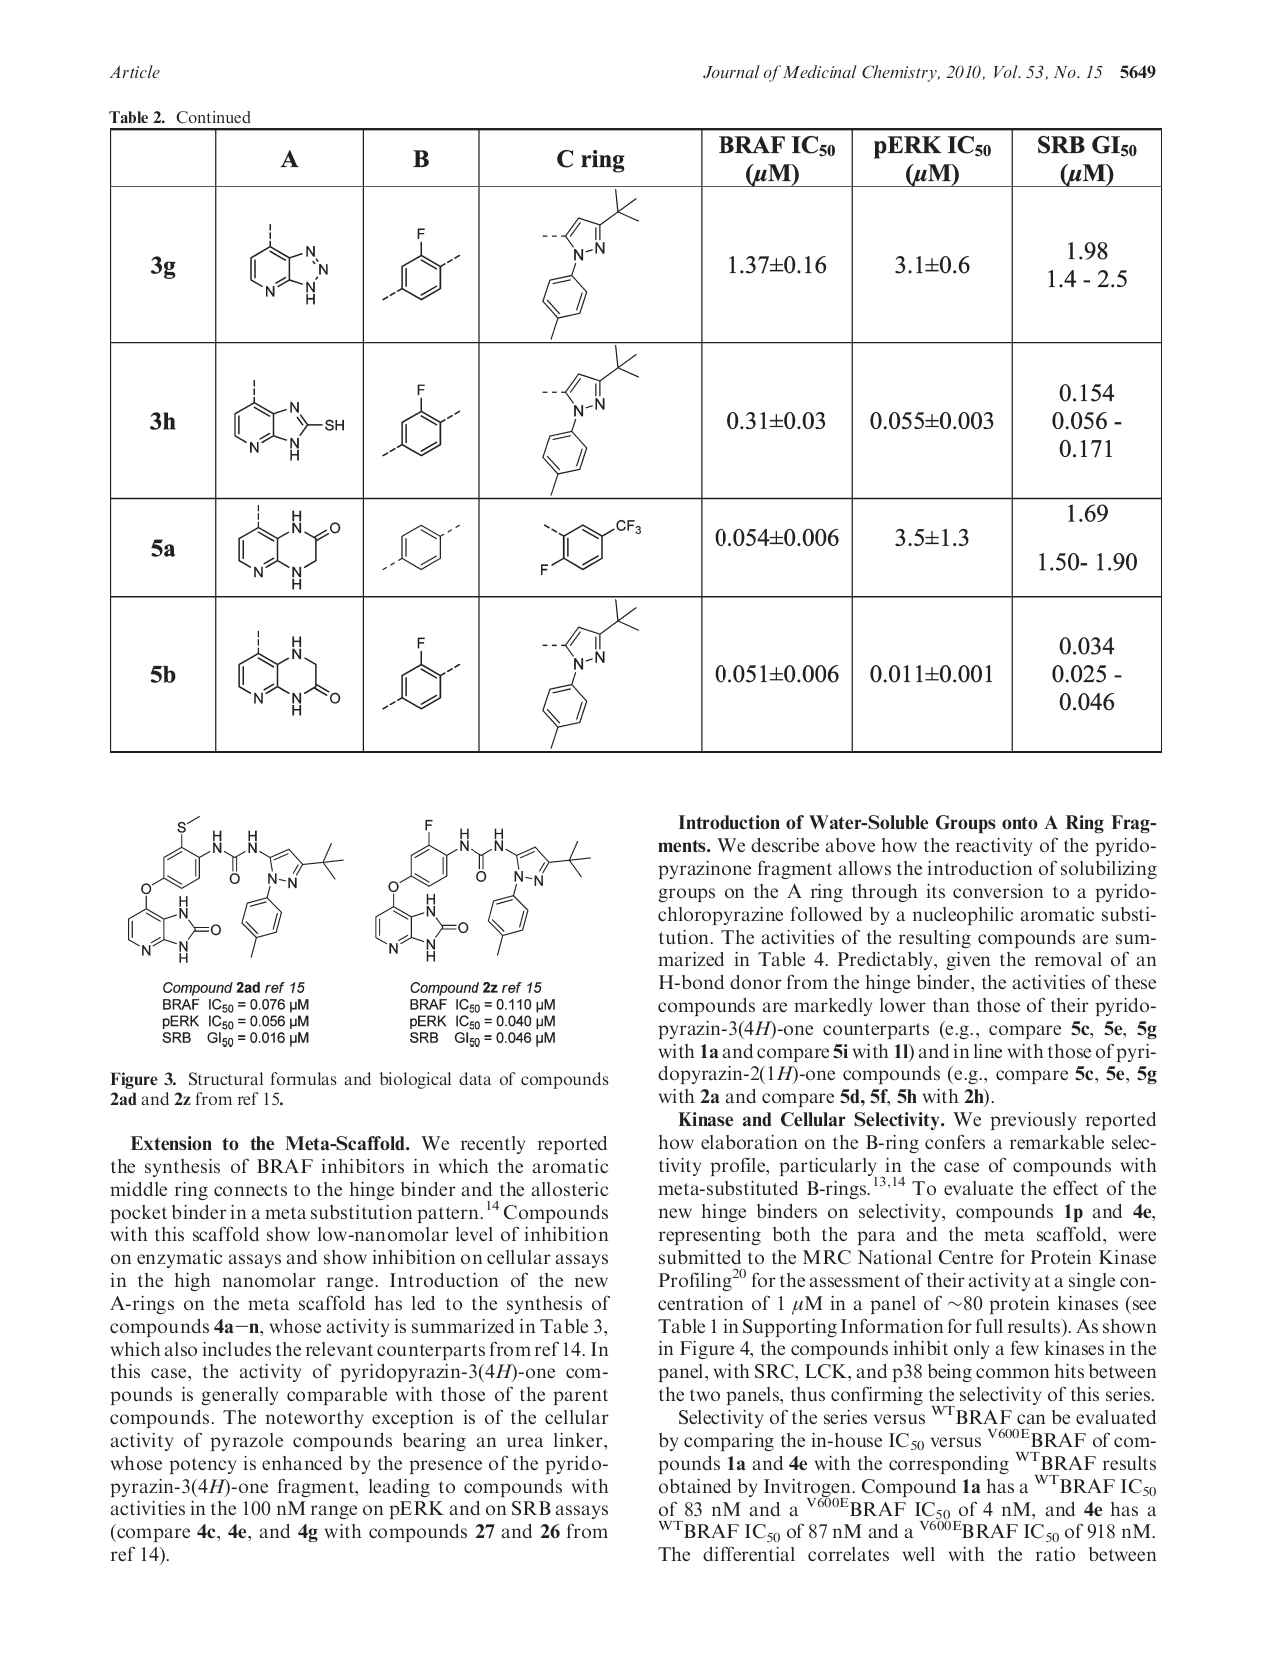exist_molecular: (372, 818, 593, 965), (128, 813, 343, 959), (539, 344, 641, 496), (537, 598, 640, 749), (541, 189, 640, 338), (233, 378, 348, 464), (237, 629, 342, 718), (238, 503, 342, 589), (246, 222, 332, 307), (379, 382, 461, 461), (540, 516, 645, 577), (383, 226, 461, 306), (382, 637, 463, 711), (380, 523, 463, 575)
